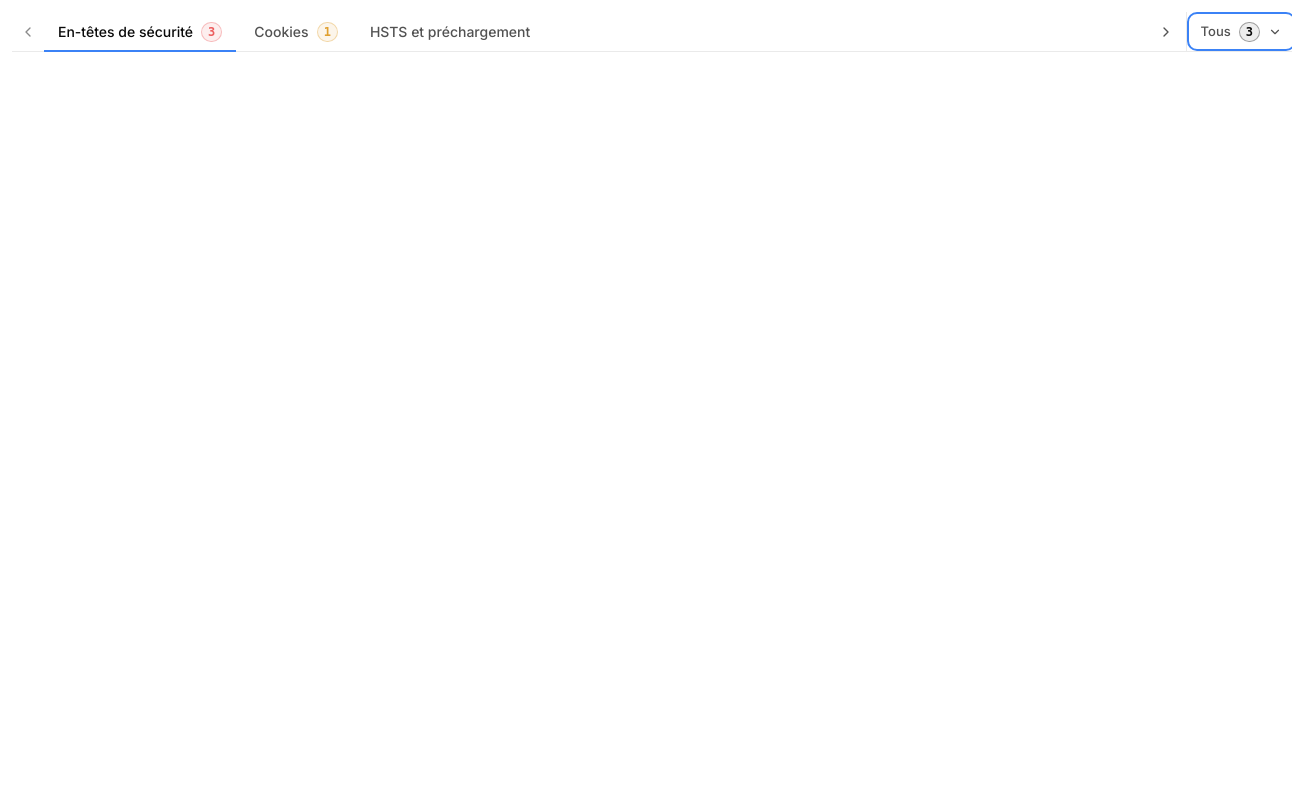
it: onglets qui débordent › menu « Tous » : Échap le referme et rend le focus au bouton, un clic ailleurs aussi
Press Arrowdown
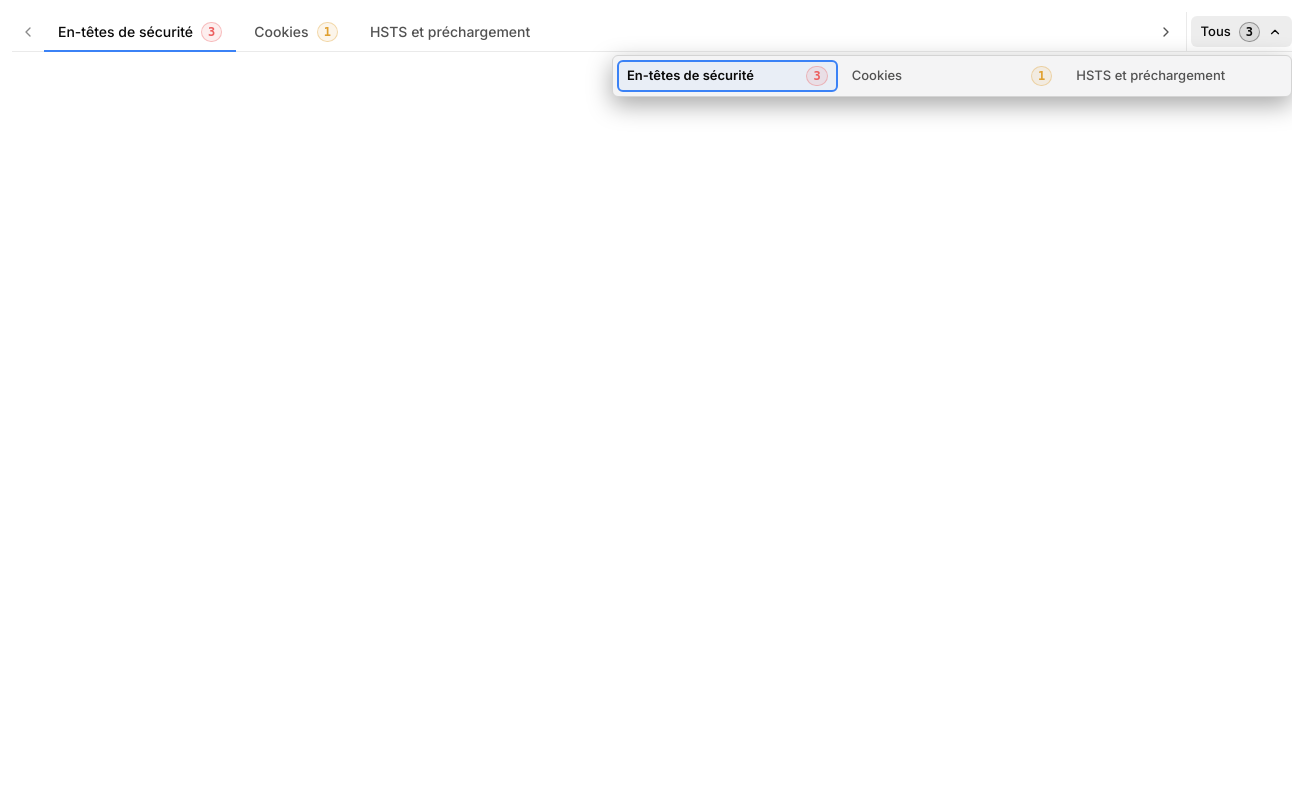
Press Escape
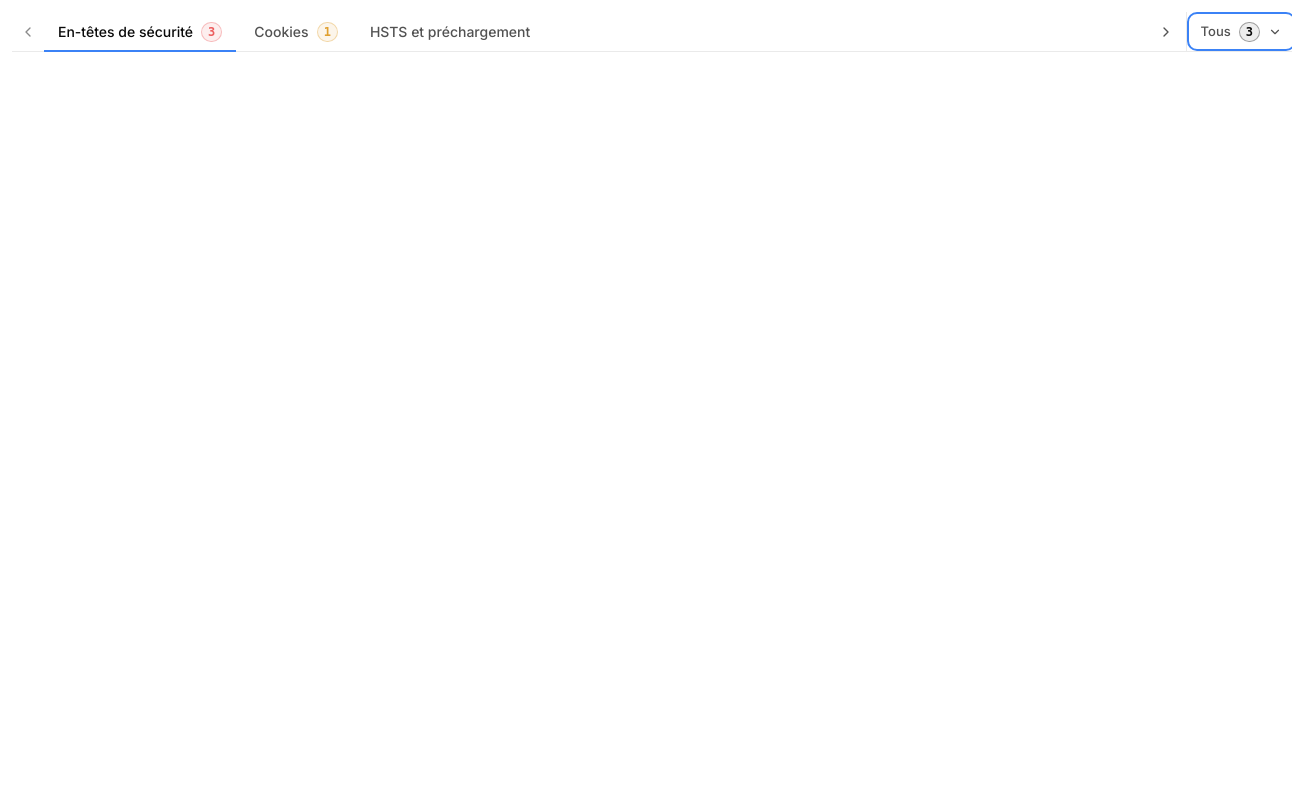
Expected: the menu is gone
Click the button named "Tous les onglets 3" at {"x": 1241, "y": 32}, box left=1191, top=16, right=1292, bottom=47
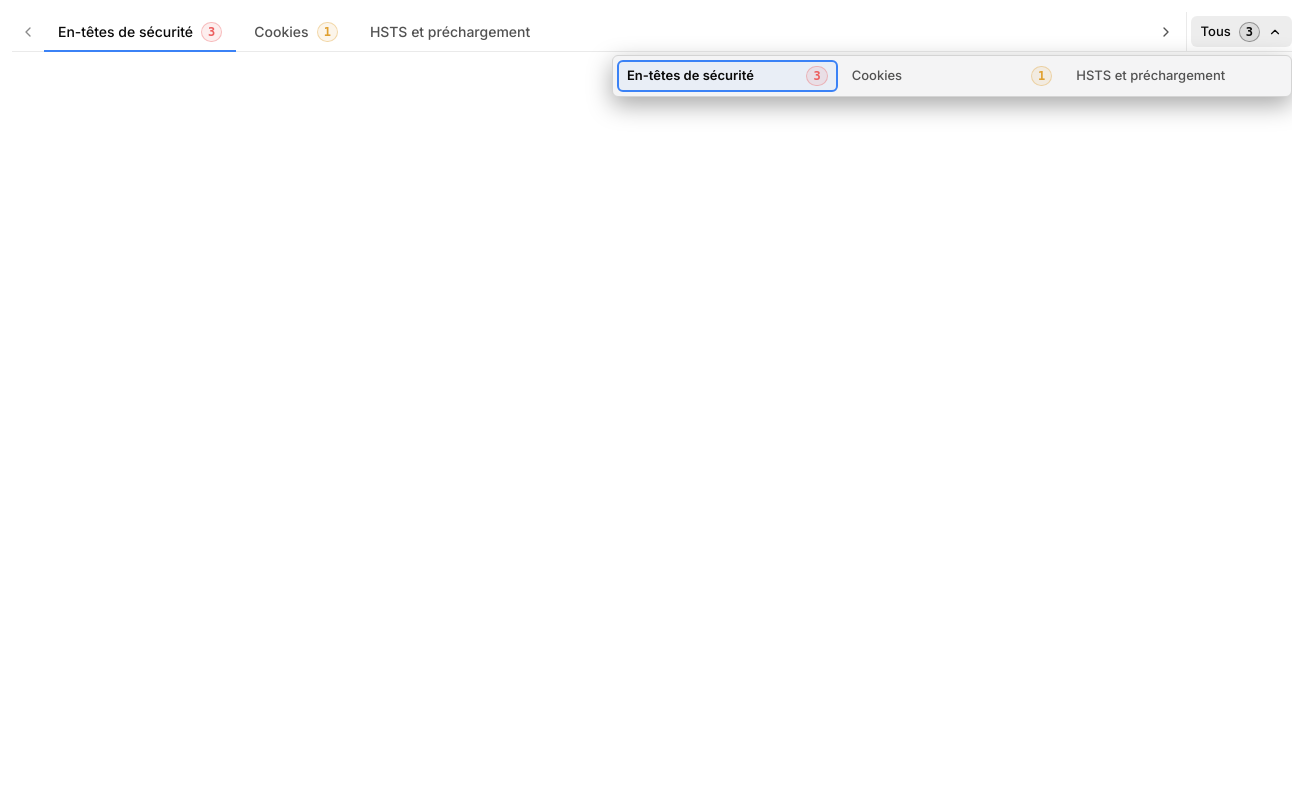
Expected: the menu is shown, left=612, top=55, right=1292, bottom=97
Click the element that starts with "En-têtes de sécurité" at {"x": 652, "y": 412}, box left=12, top=12, right=1292, bottom=811
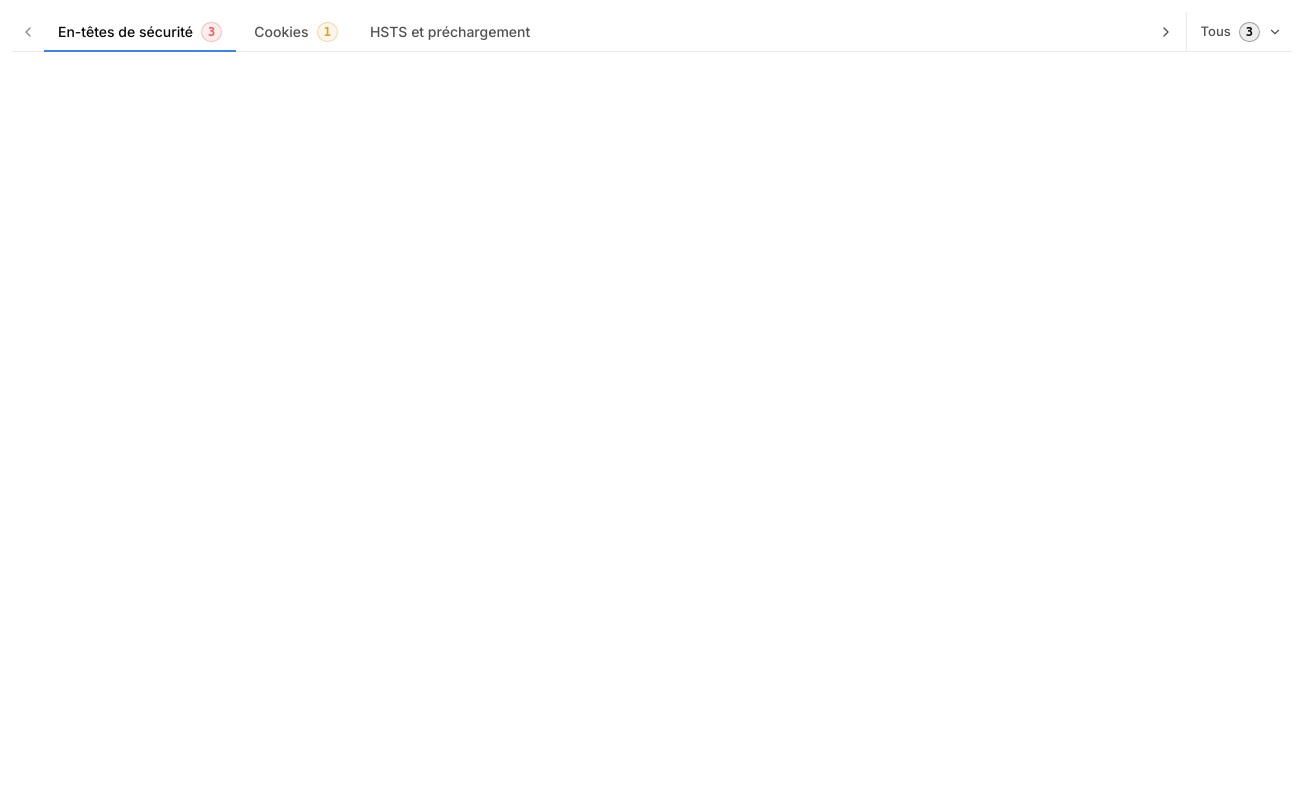
Expected: the menu is gone
